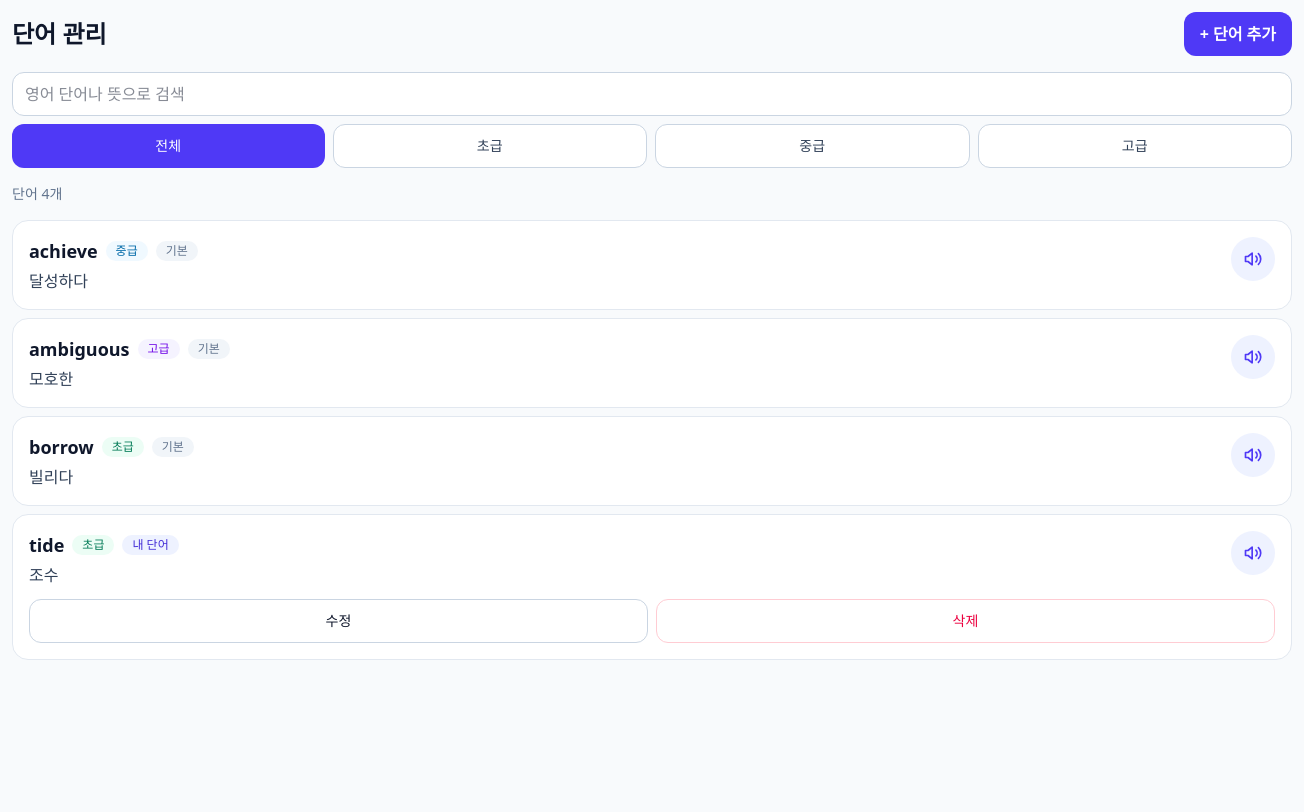
WordManager: 목록·검색·필터 › 영어나 한국어로 검색한다
Expected: the list named "단어 목록" is shown, [12,220,1292,660]
Type "모호" into the search field named "단어 검색".
click(652, 94); type("모호")  # box [12,72,1292,116]
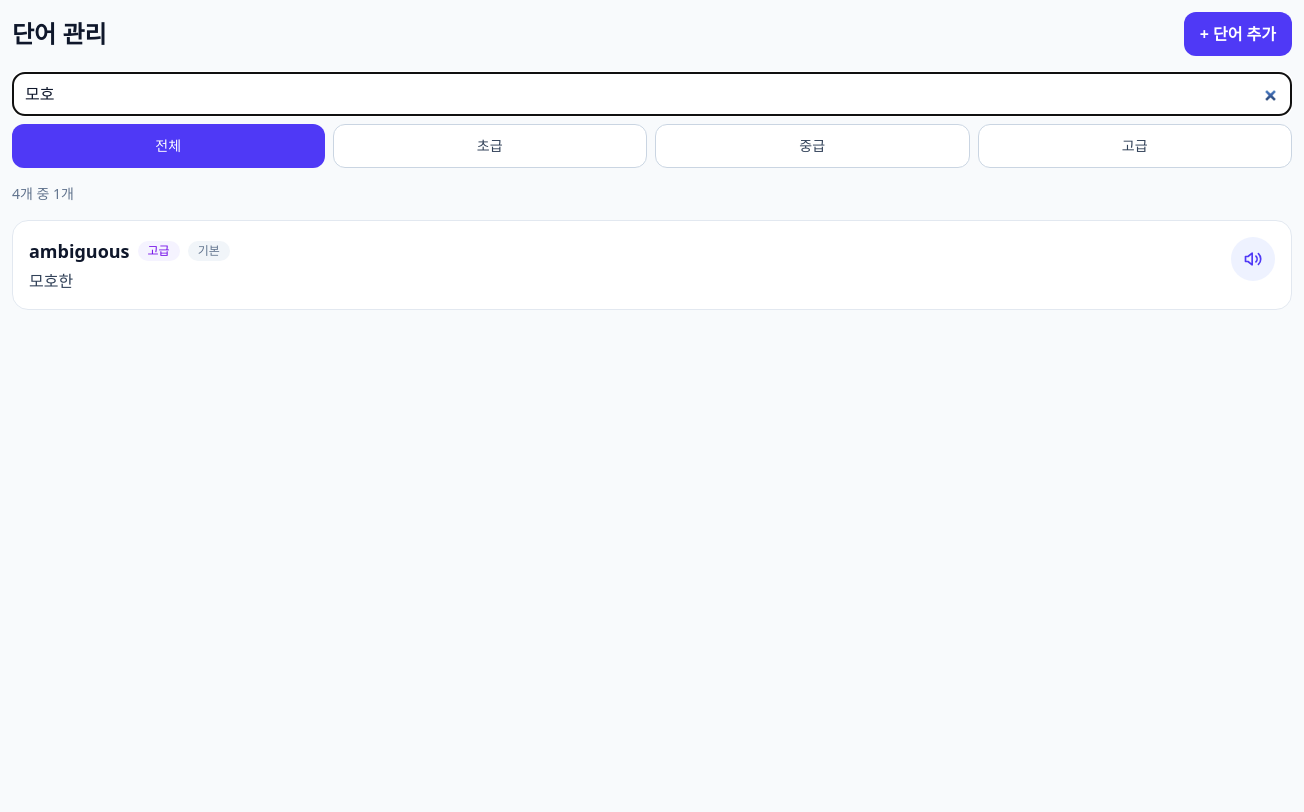
Expected: the text "4개 중 1개" is shown, [12,184,74,203]
Replace the text in the search field named "단어 검색" with "zzz" at (652, 94), box [12,72,1292,116]
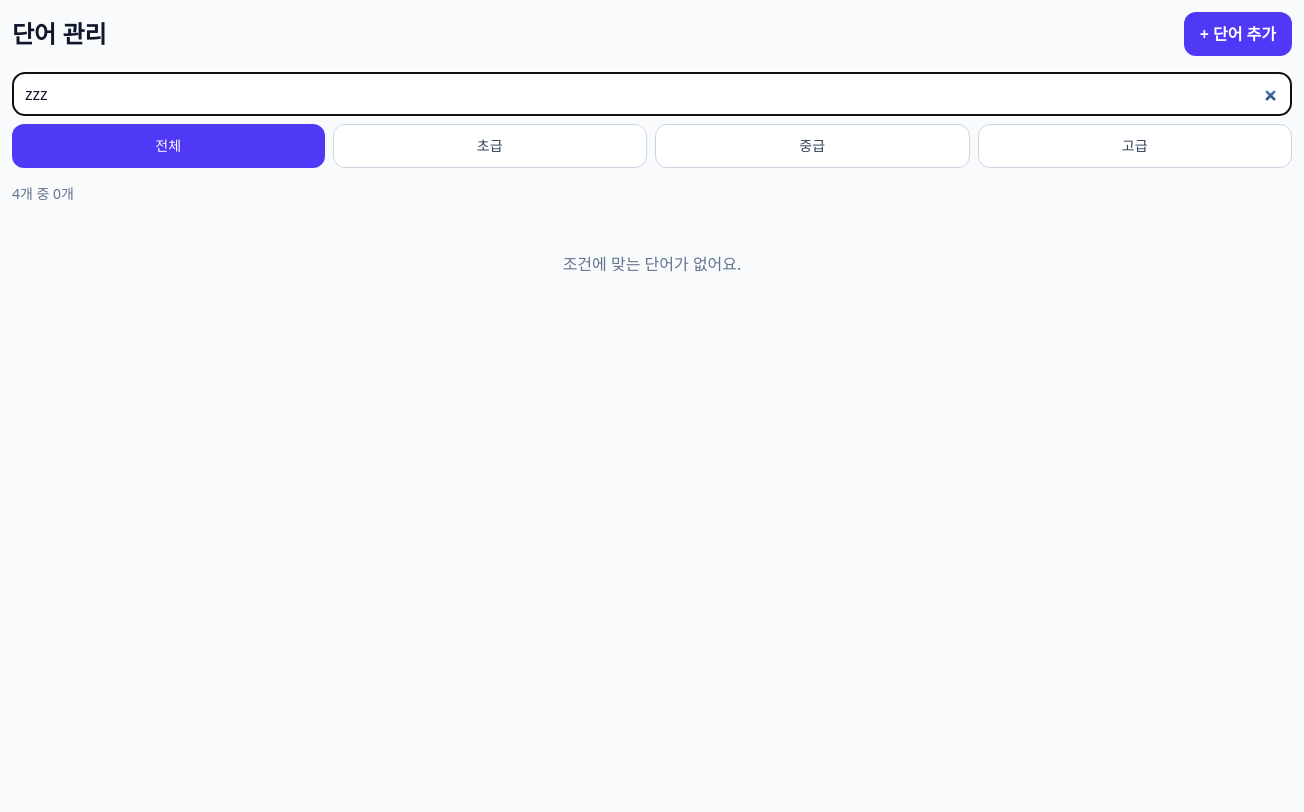
Expected: the text "조건에 맞는 단어가 없어요." is shown, [563,253,741,275]
